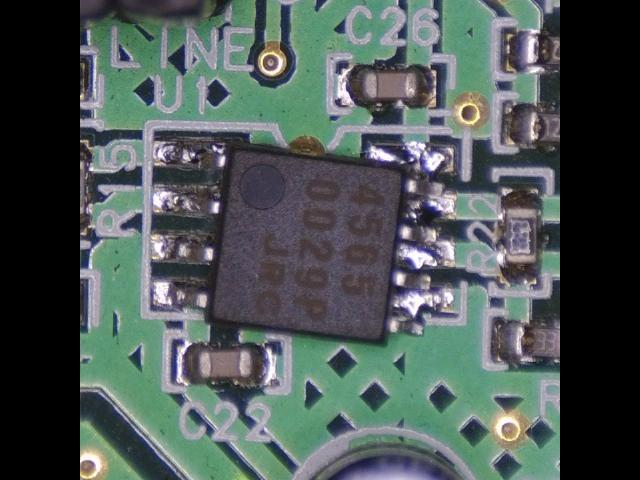Incorrect_installation: (149, 141, 458, 346)
Short_circuit: (369, 144, 456, 336)
